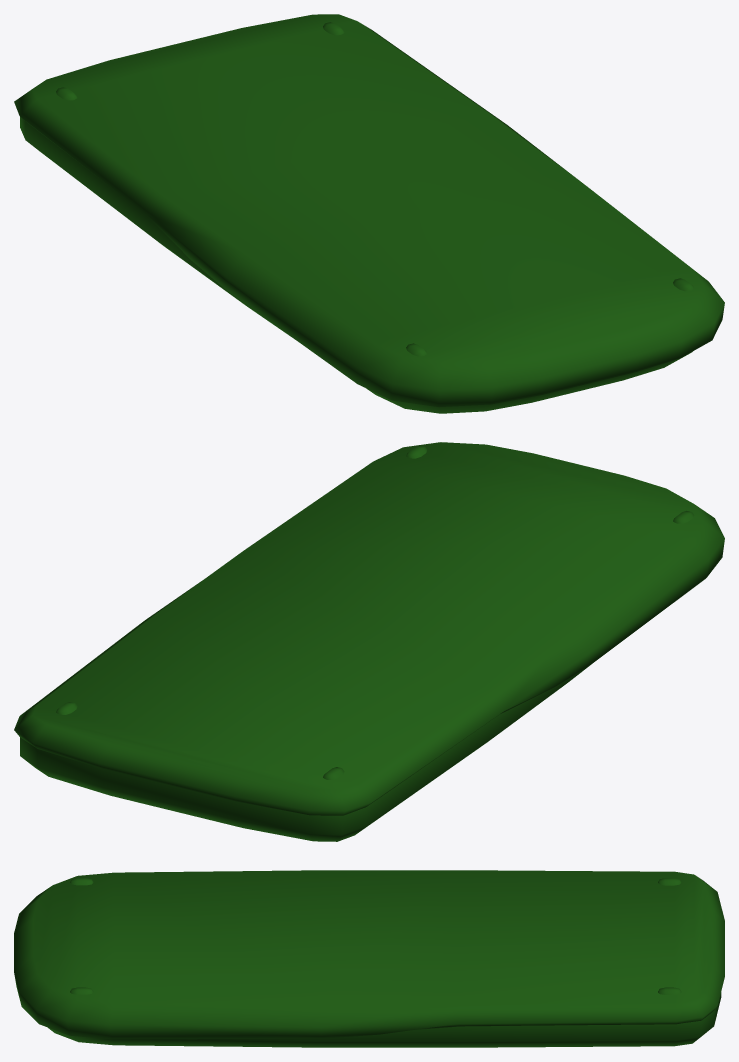
File: Calculator.fbx
3 renders of one model, top to bottom at view 1: azimuth 30°, elevation 25°; view 2: azimuth 150°, elevation 25°; view 3: azimuth 270°, elevation 25°, orthographic. The views are drawn at different scales.
Parts seen in each view (by area): view 1: Calculator; view 2: Calculator; view 3: Calculator.
Part boxes in pixels (box(x1,y1,x2,y2)): Calculator: box(14, 14, 724, 413); Calculator: box(14, 442, 724, 841); Calculator: box(14, 870, 724, 1047).
Size of the model in its own units: 16.42 by 1.21 by 8.14.
